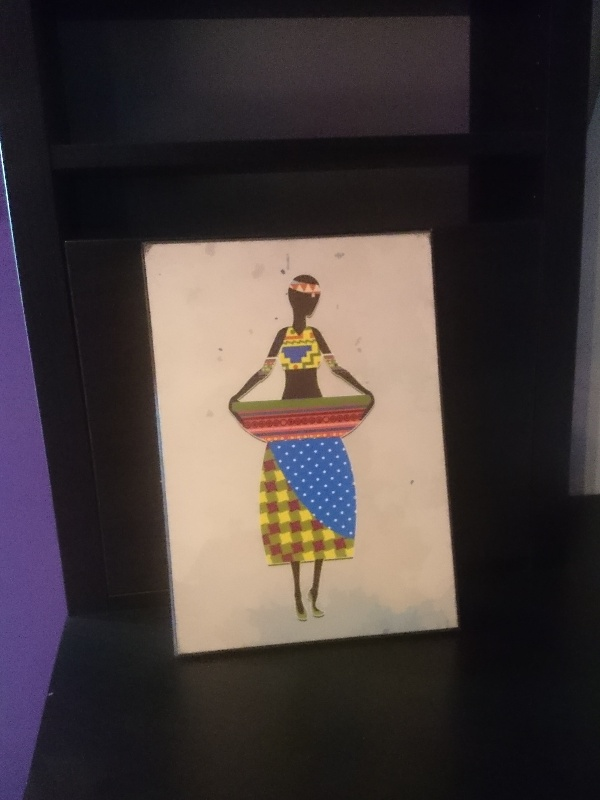my image: (145, 232, 451, 654)
